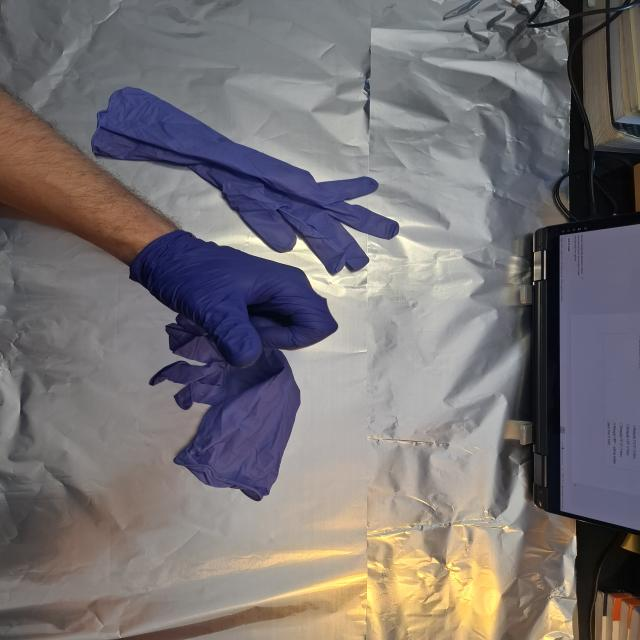glove_on: (128, 229, 342, 370)
